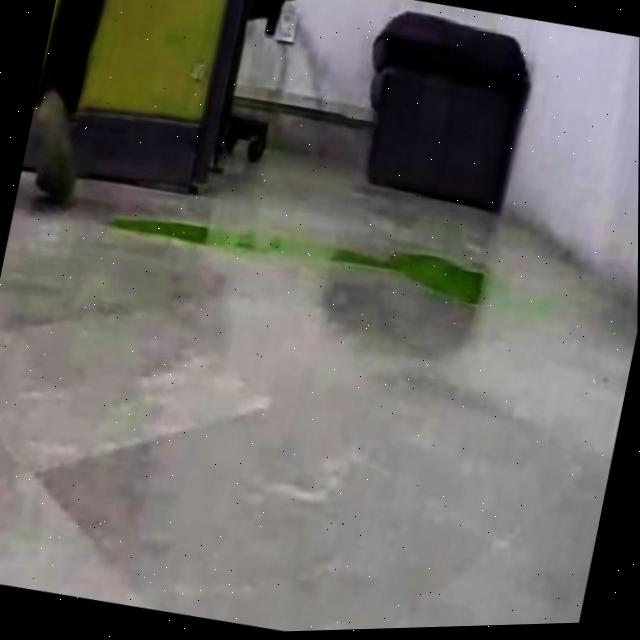spillage: (107, 219, 484, 306)
